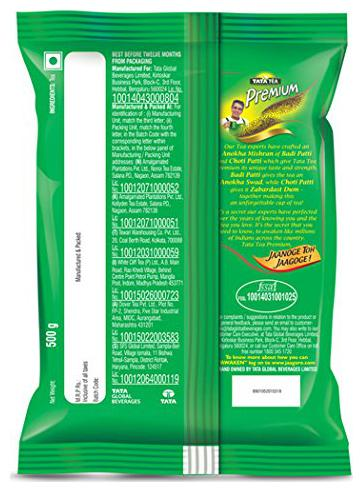fssai: (256, 281, 278, 292)
